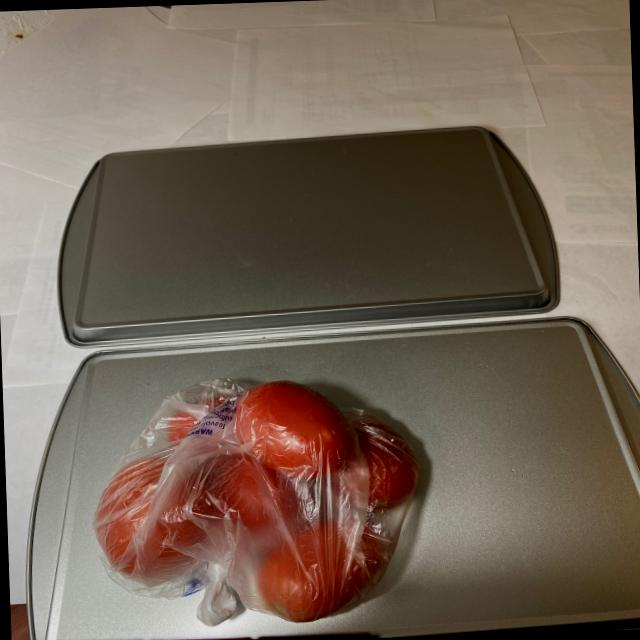tomato: (93, 367, 423, 621)
